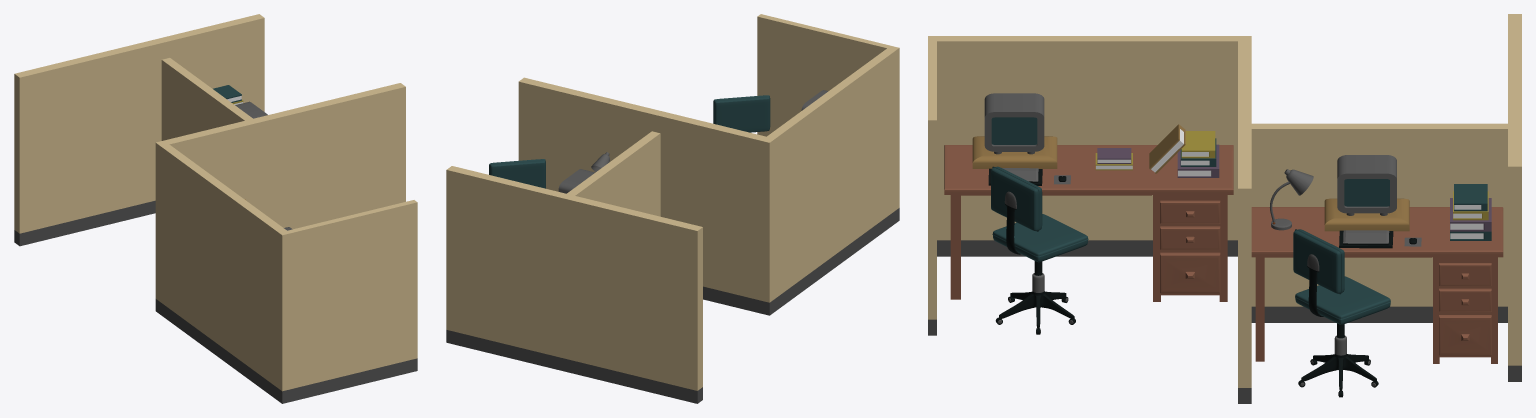
File: Escritorios.fbx
The picture shows the model from 3 angles, left to right: view 1: azimuth 30°, elevation 25°; view 2: azimuth 150°, elevation 25°; view 3: azimuth 270°, elevation 25°; orthographic projection. The views are drawn at different scales.
Visible parts, largest first — view 1: Cube.008; view 2: Cube.008, Cube.007, Cube.027, Cube.030; view 3: Cube.008, Cube.015, Cube.009, Cube.004, Cube.030, Cube.006, Cube.036, Cube.027, Cube.007, Cube.010, Cube.003, Cylinder.001 (+10 smaller).
Boxes of the visible parts, x1=… form: Cube.008: x1=14, y1=14, x2=417, y2=403; Cube.008: x1=446, y1=14, x2=899, y2=403; Cube.007: x1=713, y1=95, x2=770, y2=132; Cube.027: x1=489, y1=159, x2=545, y2=188; Cube.030: x1=558, y1=169, x2=595, y2=193; Cube.008: x1=928, y1=14, x2=1521, y2=403; Cube.015: x1=944, y1=145, x2=1233, y2=301; Cube.009: x1=1251, y1=207, x2=1503, y2=363; Cube.004: x1=984, y1=93, x2=1044, y2=151; Cube.030: x1=1337, y1=155, x2=1396, y2=213; Cube.006: x1=992, y1=214, x2=1088, y2=262; Cube.036: x1=1295, y1=276, x2=1390, y2=324; Cube.027: x1=1293, y1=229, x2=1344, y2=294; Cube.007: x1=991, y1=166, x2=1042, y2=231; Cube.010: x1=1324, y1=198, x2=1409, y2=231; Cube.003: x1=972, y1=136, x2=1057, y2=168; Cylinder.001: x1=999, y1=261, x2=1074, y2=328.
Bounding box in the file's own units: 2008 × 1157 × 2885.
